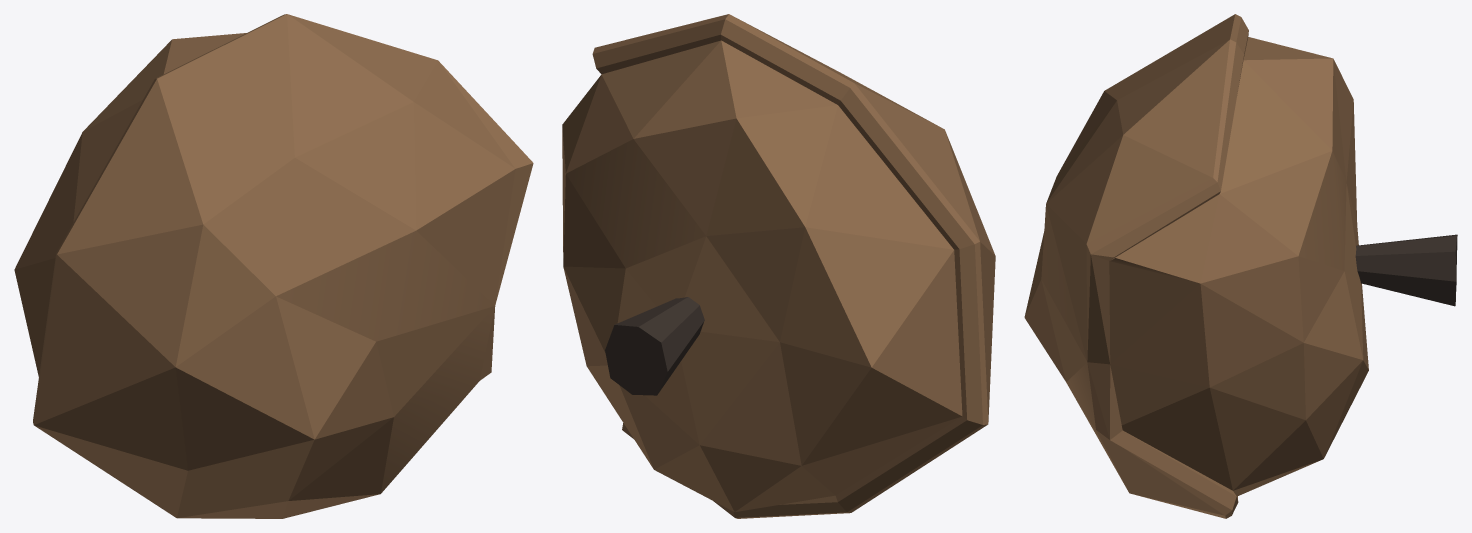
File: bushneu.fbx
3 renders of one model, left to right at view 1: azimuth 30°, elevation 25°; view 2: azimuth 150°, elevation 25°; view 3: azimuth 270°, elevation 25°, orthographic. The views are drawn at different scales.
Parts seen in each view (by area): view 1: Laub-1.001; view 2: Laub-1.001; view 3: Laub-1.001.
Part boxes in pixels (x1,y1,x2,y2): Laub-1.001: (14, 14, 533, 518); Laub-1.001: (562, 14, 995, 518); Laub-1.001: (1024, 14, 1457, 518).
Bounding box in the file's own units: 501 × 550 × 447.
